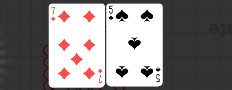5C: (155, 66, 162, 83)
7D: (98, 68, 104, 84)
